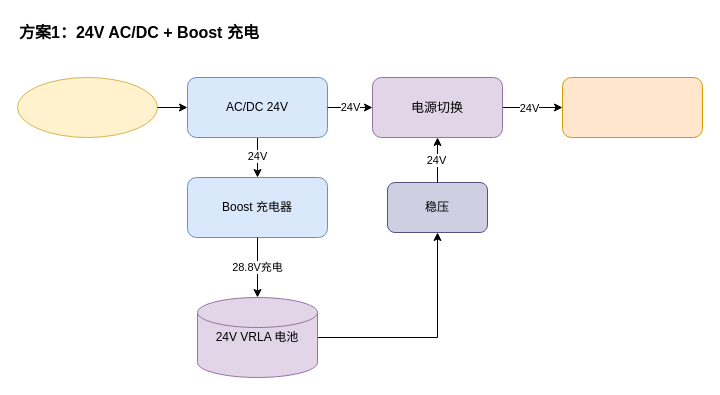
The diagram is 720 pixels wide and 395 high, and some of its shapes have lost their labels. Here are the shapes that lost their labels. From the top down, the box of each, then its label:
(16, 76, 158, 138): AC 220V
(562, 76, 702, 138): 医疗负载
